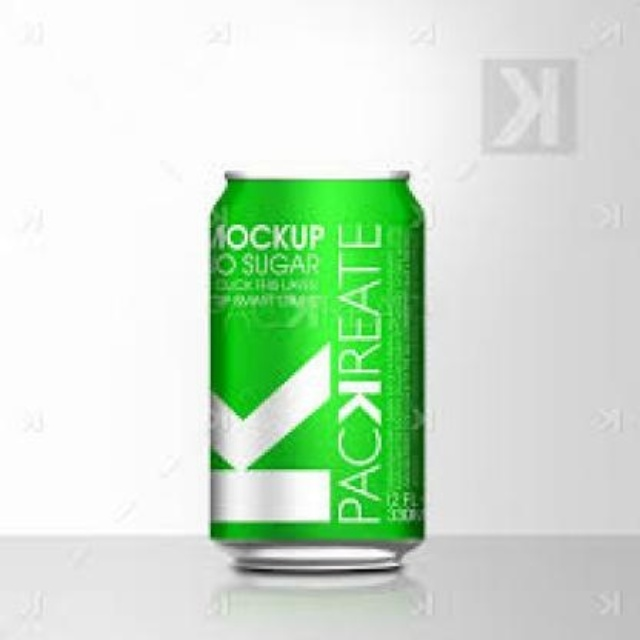trash: (211, 172, 423, 569)
